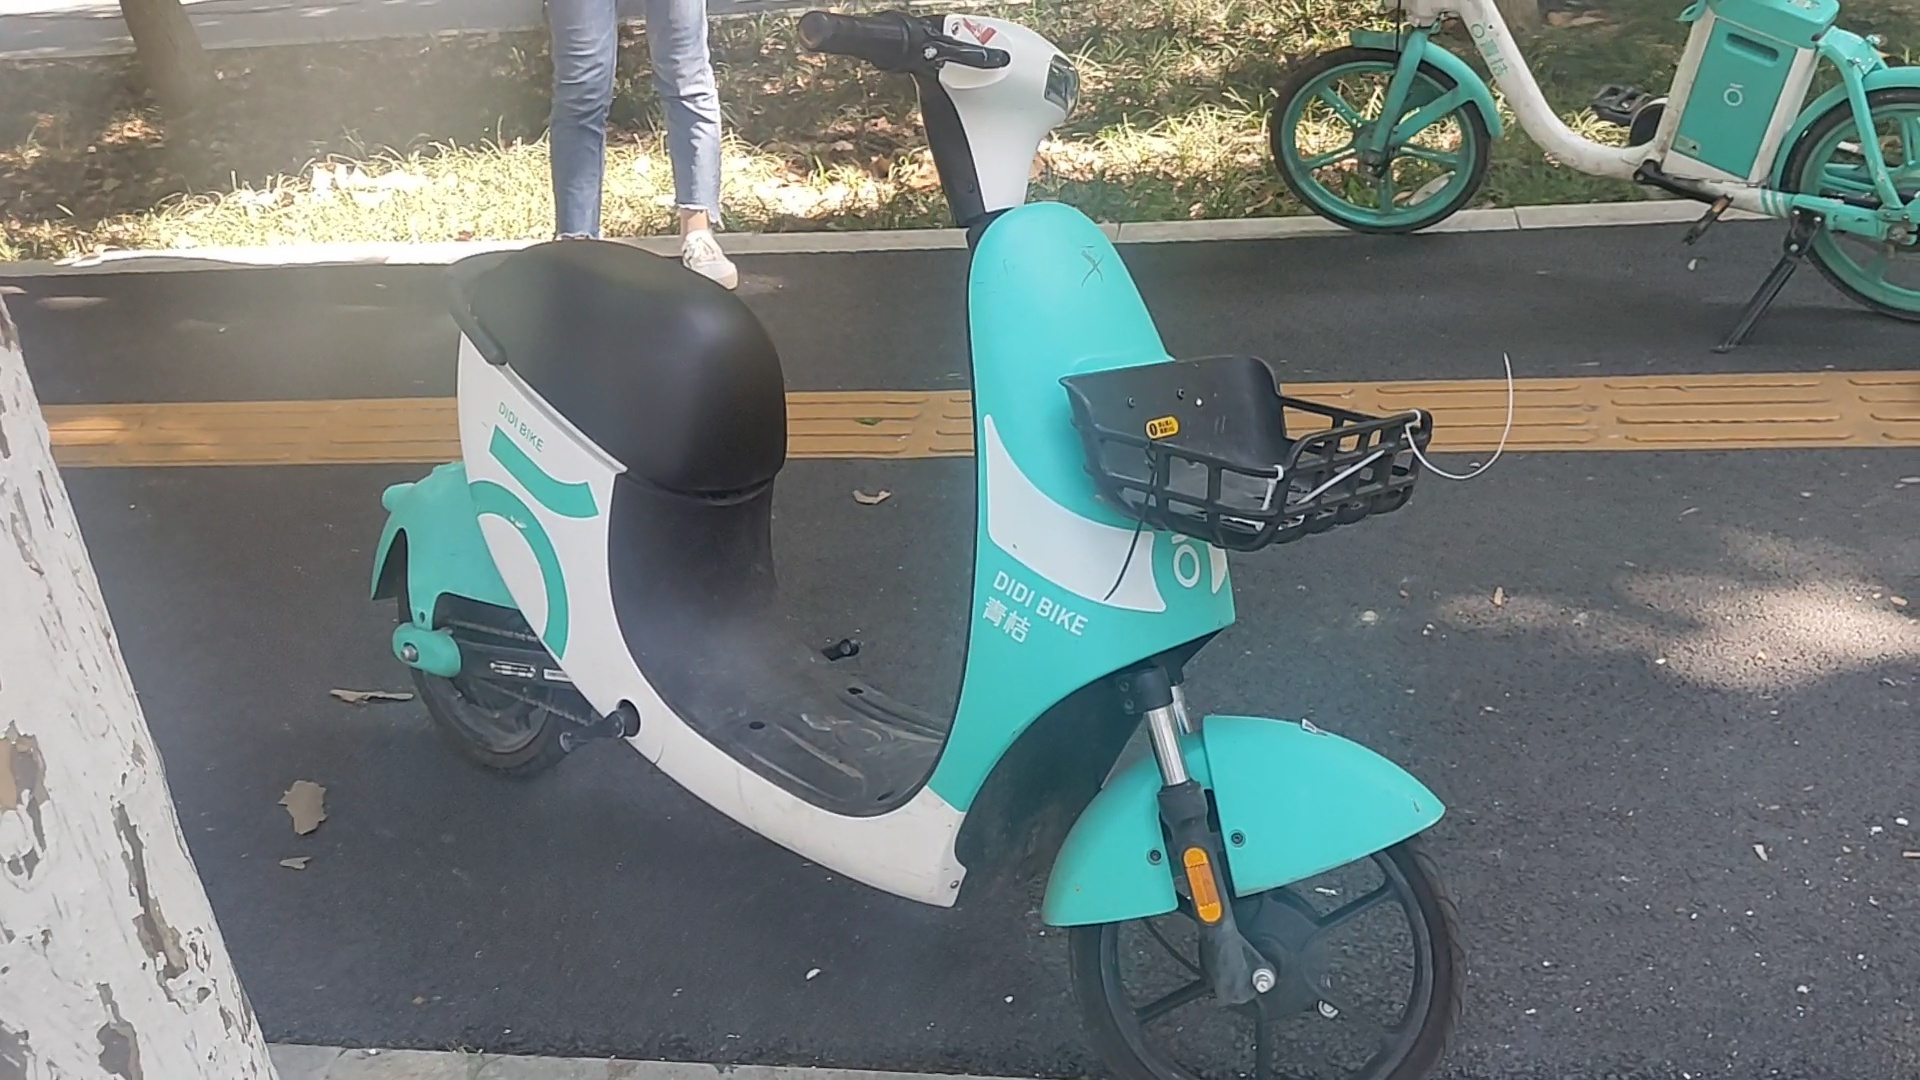non-vehicle: (265, 3, 1469, 1080), (1251, 1, 1920, 378)
